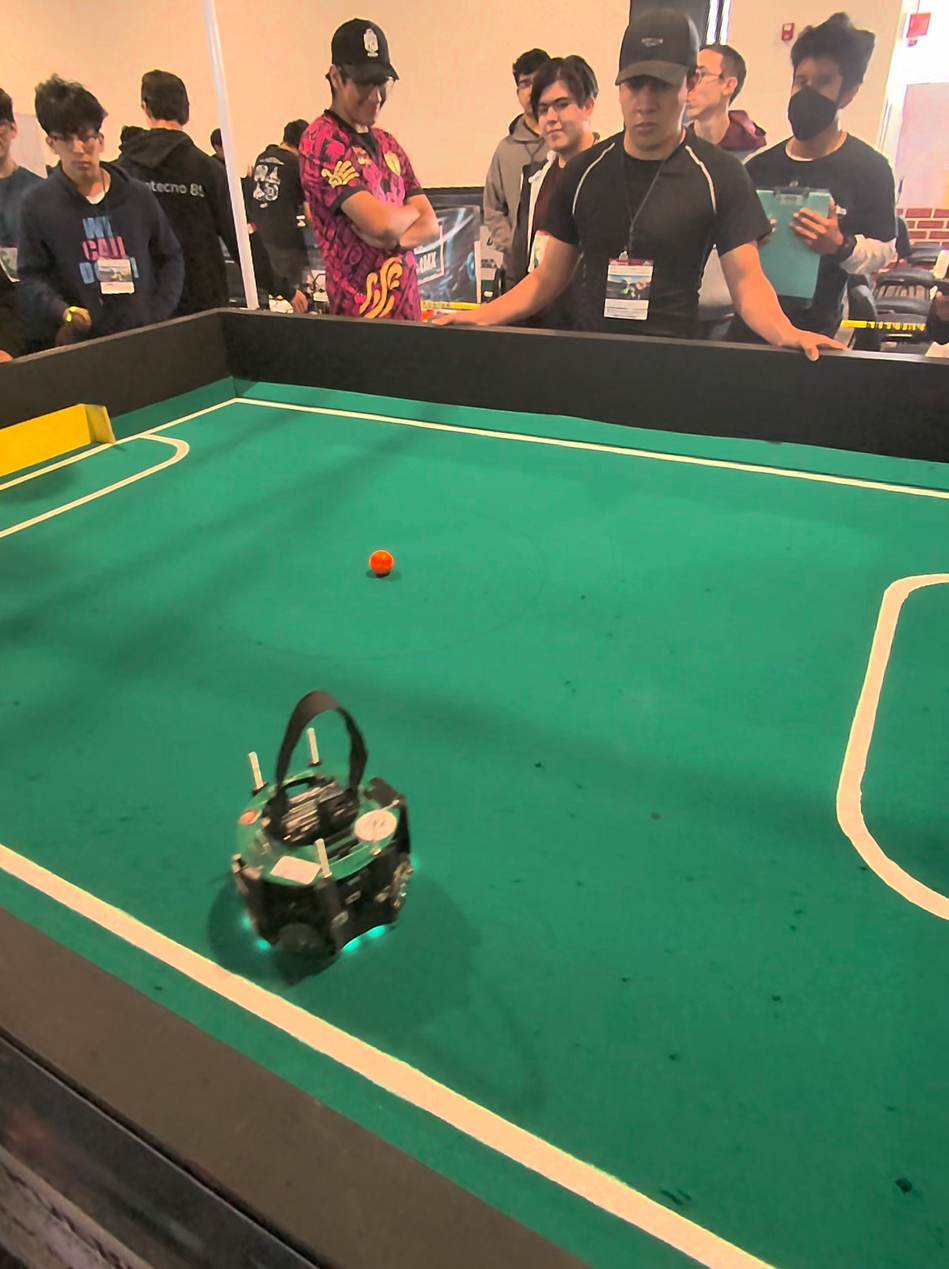Robot: (233, 678, 437, 1000)
pelota: (369, 545, 400, 579)
